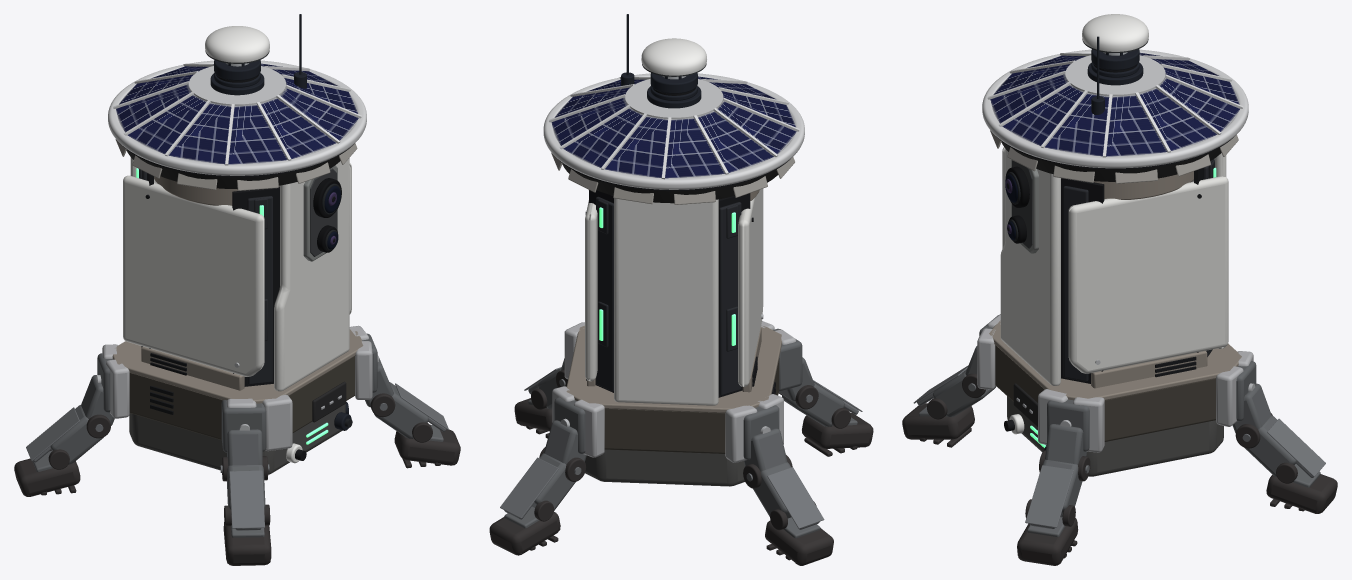
File: terra-station.glb
The picture shows the model from 3 angles, left to right: view 1: azimuth 30°, elevation 25°; view 2: azimuth 150°, elevation 25°; view 3: azimuth 270°, elevation 25°; orthographic projection. The views are drawn at different scales.
Visible parts, largest first — view 1: Plate_Left, Solar_Facets, Plate_Front, Base_Band, Rim, Lower_Housing, Base_TopLip, GNSS_Dome, Leg0_Lower_Edge, Plateau, Rail_-131, Leg3_Foot (+20 smaller); view 2: Plate_Back, Solar_Facets, Base_Band, Lower_Housing, Rim, Base_TopLip, Plate_Left, Rail_131, Rail_49, Plate_Right, GNSS_Dome, Plateau (+21 smaller); view 3: Plate_Right, Solar_Facets, Plate_Front, Base_Band, Rim, Lower_Housing, Base_TopLip, GNSS_Dome, Leg1_Lower_Edge, Plateau, Leg2_Foot, Leg0_Foot (+22 smaller).
Boxes of the visible parts, x1=… form: Plate_Left: x1=123, y1=175, x2=264, y2=376; Solar_Facets: x1=116, y1=63, x2=358, y2=164; Plate_Front: x1=274, y1=158, x2=349, y2=391; Base_Band: x1=129, y1=356, x2=354, y2=439; Rim: x1=108, y1=60, x2=366, y2=175; Lower_Housing: x1=129, y1=404, x2=345, y2=474; Base_TopLip: x1=112, y1=329, x2=363, y2=403; GNSS_Dome: x1=205, y1=26, x2=269, y2=62; Leg0_Lower_Edge: x1=229, y1=470, x2=264, y2=528; Plateau: x1=188, y1=66, x2=286, y2=105; Rail_-131: x1=247, y1=196, x2=272, y2=384; Leg3_Foot: x1=14, y1=458, x2=80, y2=496; Plate_Back: x1=614, y1=198, x2=718, y2=405; Solar_Facets: x1=551, y1=76, x2=796, y2=178; Base_Band: x1=604, y1=358, x2=779, y2=453; Lower_Housing: x1=585, y1=449, x2=744, y2=486; Rim: x1=543, y1=73, x2=804, y2=189; Base_TopLip: x1=566, y1=325, x2=781, y2=412; Plate_Left: x1=738, y1=188, x2=763, y2=386; Rail_131: x1=719, y1=202, x2=741, y2=395; Rail_49: x1=596, y1=196, x2=613, y2=391; Plate_Right: x1=585, y1=200, x2=597, y2=381; GNSS_Dome: x1=641, y1=38, x2=706, y2=75; Plateau: x1=625, y1=79, x2=723, y2=119; Plate_Right: x1=1068, y1=176, x2=1228, y2=373; Solar_Facets: x1=990, y1=52, x2=1239, y2=156; Plate_Front: x1=1000, y1=149, x2=1060, y2=385; Base_Band: x1=995, y1=345, x2=1215, y2=441; Rim: x1=982, y1=49, x2=1248, y2=168; Lower_Housing: x1=1007, y1=396, x2=1223, y2=476; Base_TopLip: x1=989, y1=320, x2=1241, y2=400; GNSS_Dome: x1=1082, y1=14, x2=1148, y2=51; Leg1_Lower_Edge: x1=1025, y1=465, x2=1073, y2=527; Plateau: x1=1065, y1=55, x2=1165, y2=96; Leg2_Foot: x1=1266, y1=474, x2=1337, y2=513; Leg0_Foot: x1=902, y1=403, x2=974, y2=439.
Bounding box in the file's own units: 0.994 × 1.15 × 0.9739.
31 materials, 1 textured.
